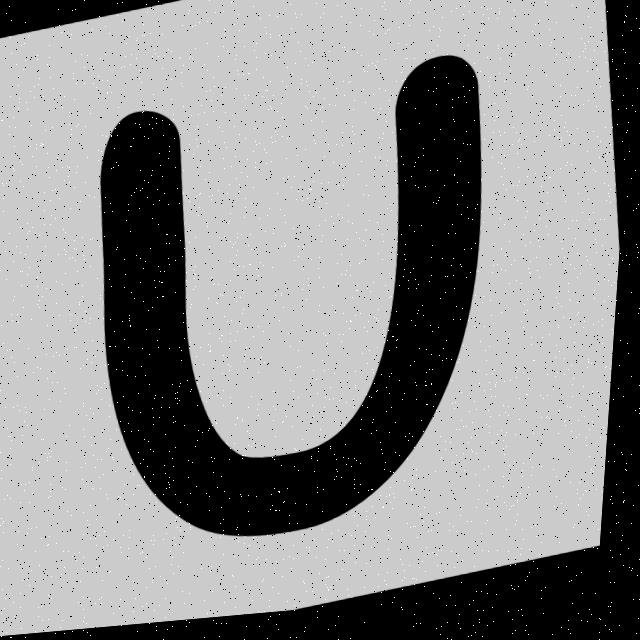U: (103, 64, 484, 540)
